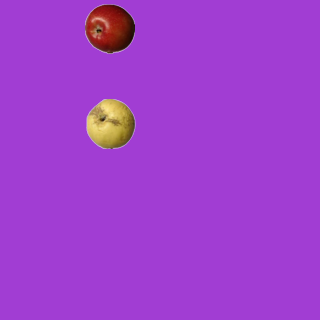Apple Braeburn: (84, 3, 134, 53)
Apple Golden 1: (85, 98, 135, 148)
